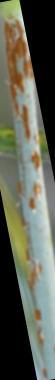Wheat: (5, 19, 34, 140), (25, 254, 53, 374), (20, 151, 44, 213)
